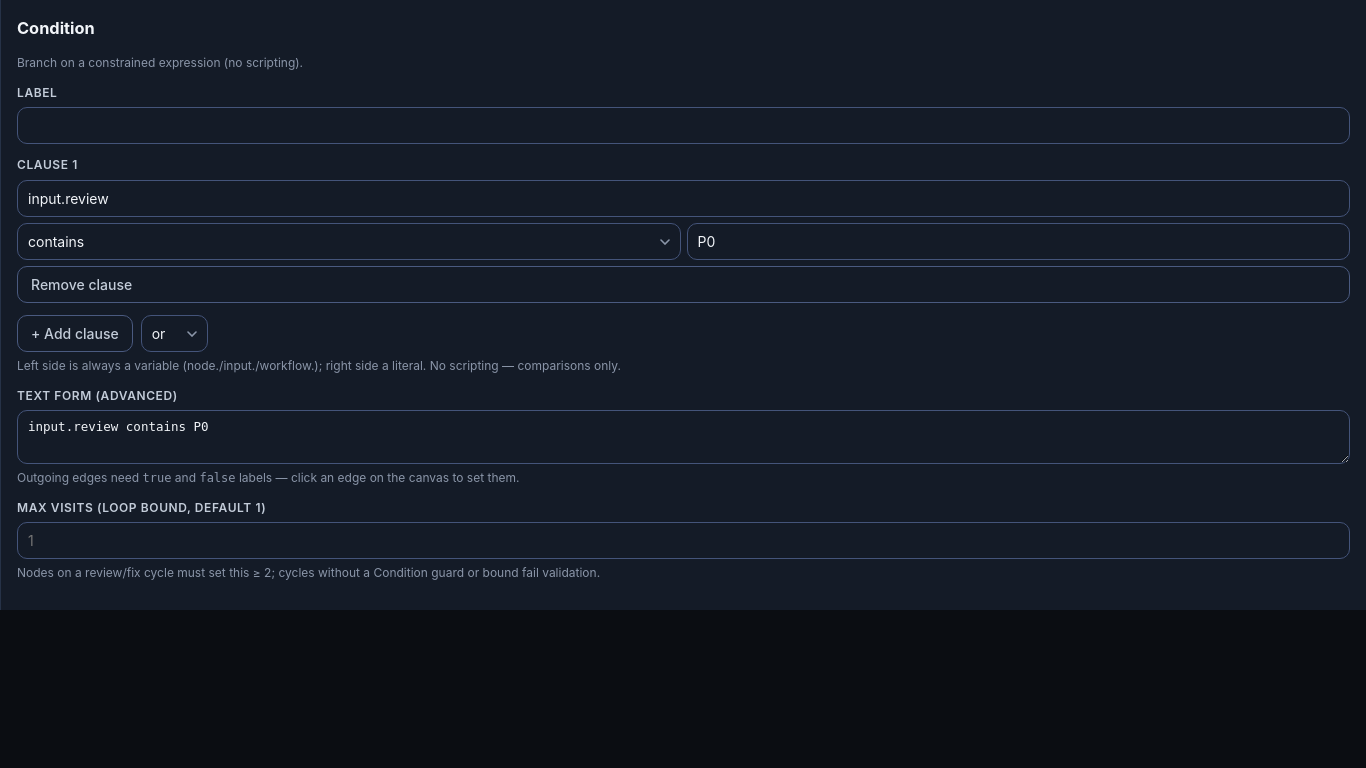
Test case: keeps an incomplete advanced expression visible while its prior valid edit finishes saving
The image size is (1366, 768).
Step 1. Replace the text in the text box labelled "Text form (advanced)" with "input.review contains \"P1\"" → coordinates (684, 437), box [17, 410, 1350, 464]
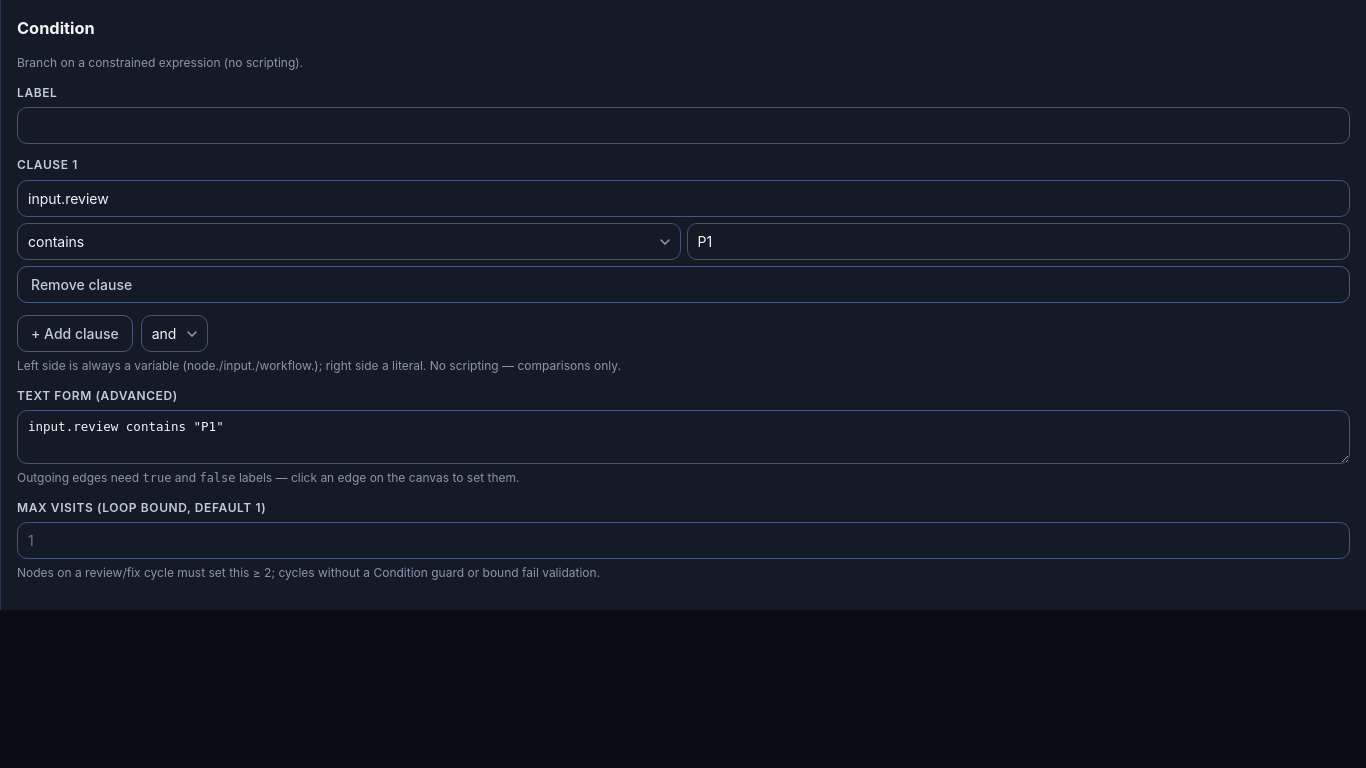
Step 2. Replace the text in the text box labelled "Text form (advanced)" with "input.review contains \"unfinished" → coordinates (684, 437), box [17, 410, 1350, 464]
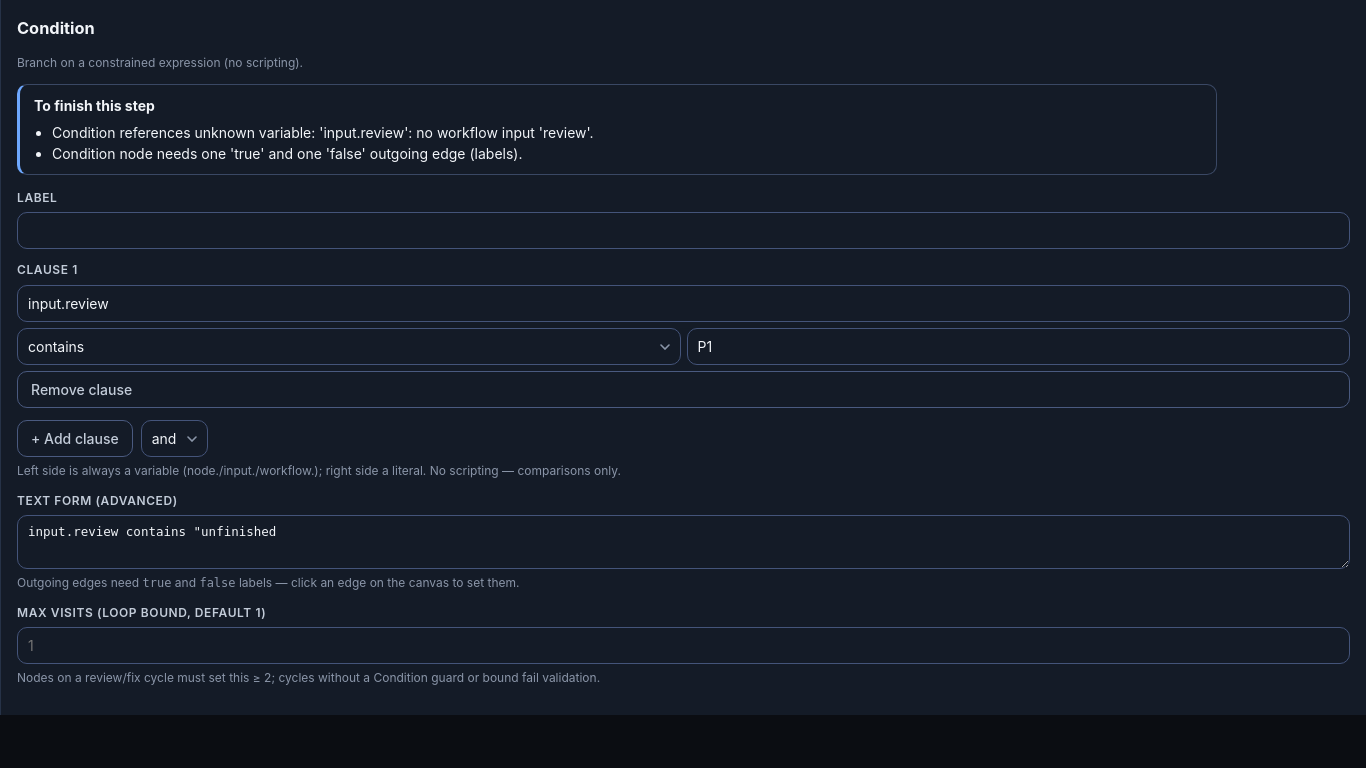
Step 3. Leave the text box labelled "Text form (advanced)", box [17, 515, 1350, 569]
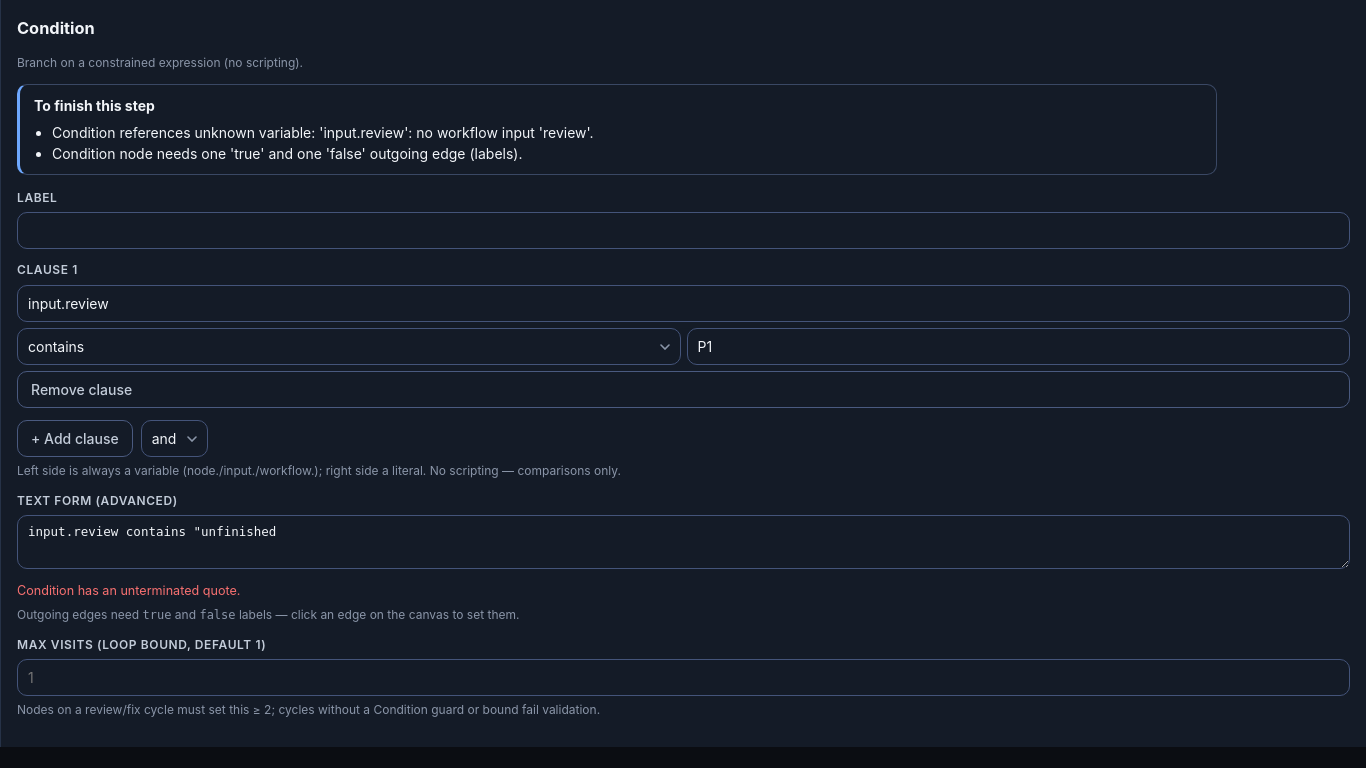
expect the message "Condition has an unterminated quote." is shown: met, box [17, 583, 240, 598]
Step 4. Replace the text in the text box labelled "Text form (advanced)" with "input.review contains \"P2\"" → coordinates (684, 542), box [17, 515, 1350, 569]
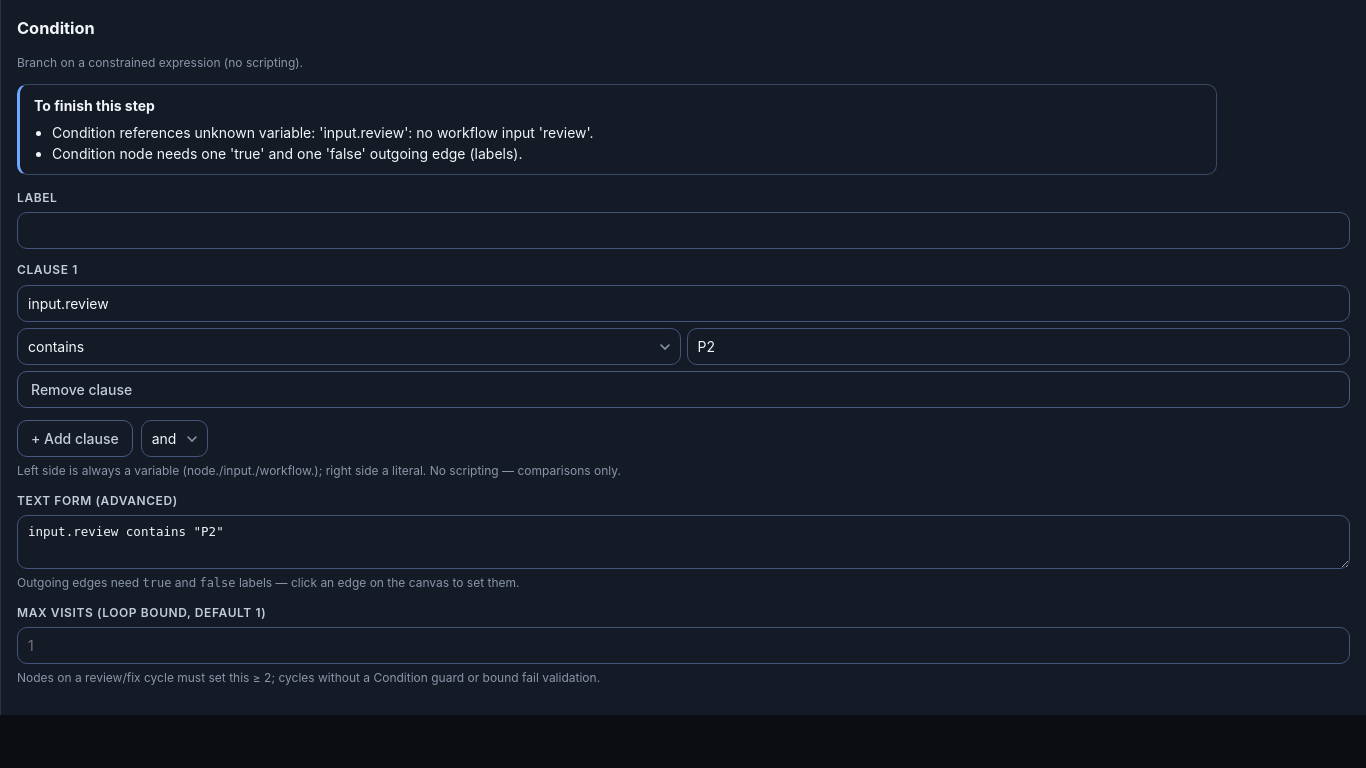
expect the message "Condition has an unterminated quote." is gone: met
